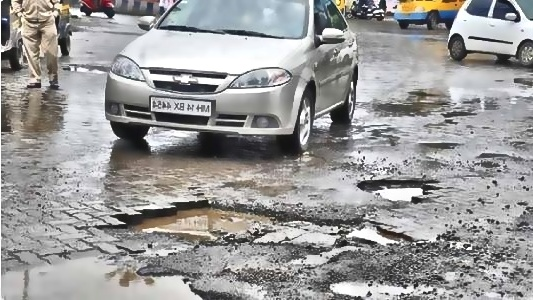pothole: (99, 196, 415, 254), (1, 255, 261, 299), (357, 175, 442, 205), (330, 280, 424, 298)
